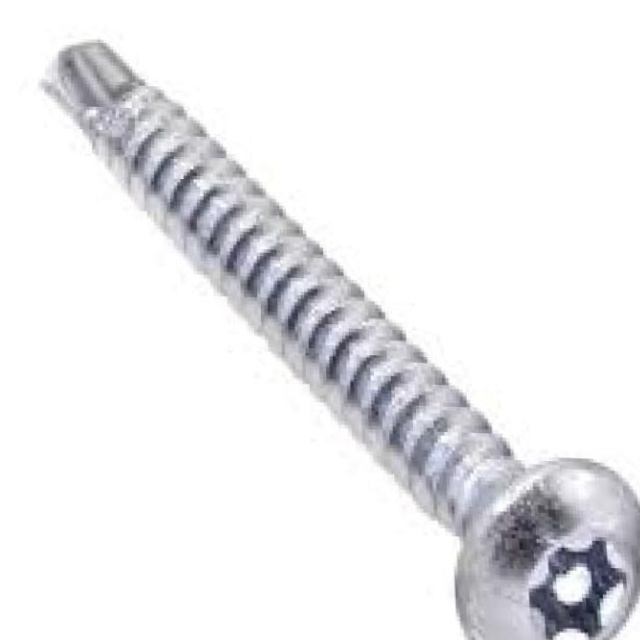torx: (449, 450, 640, 640)
